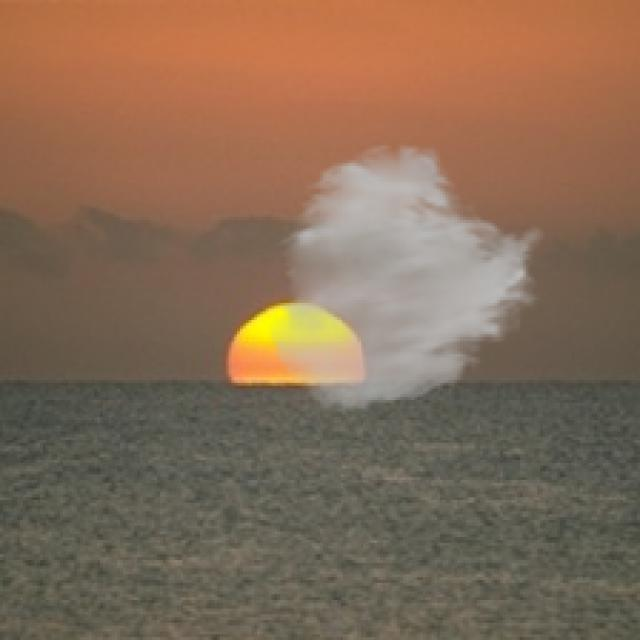smoke: (266, 140, 548, 414)
